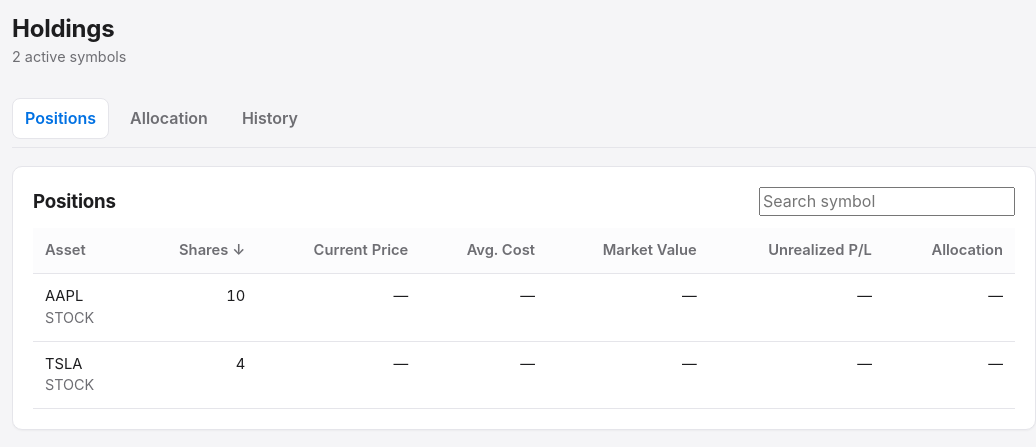
Scenario: Holdings › shows fallback when no allocation data
Click the tab "Allocation".
click(169, 118)  # box [117,98,221,139]
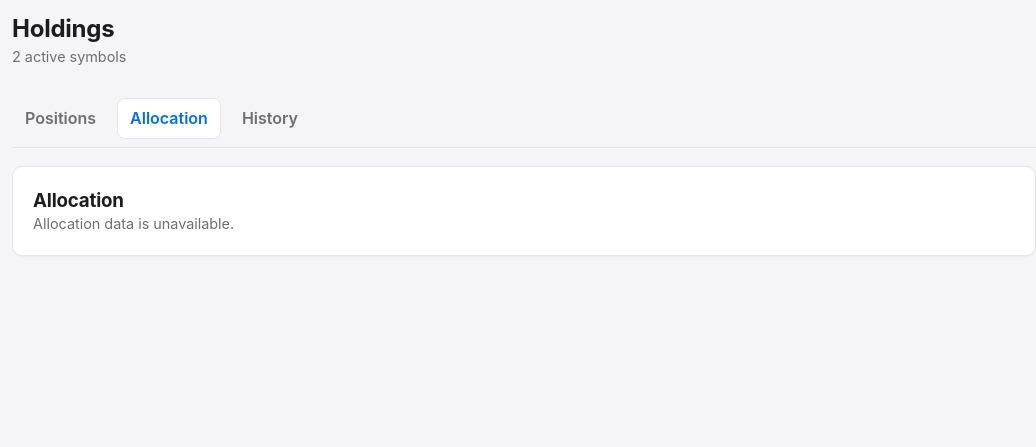
Check: the text "Allocation data is unavailable." is shown, box [33,215,234,232]
